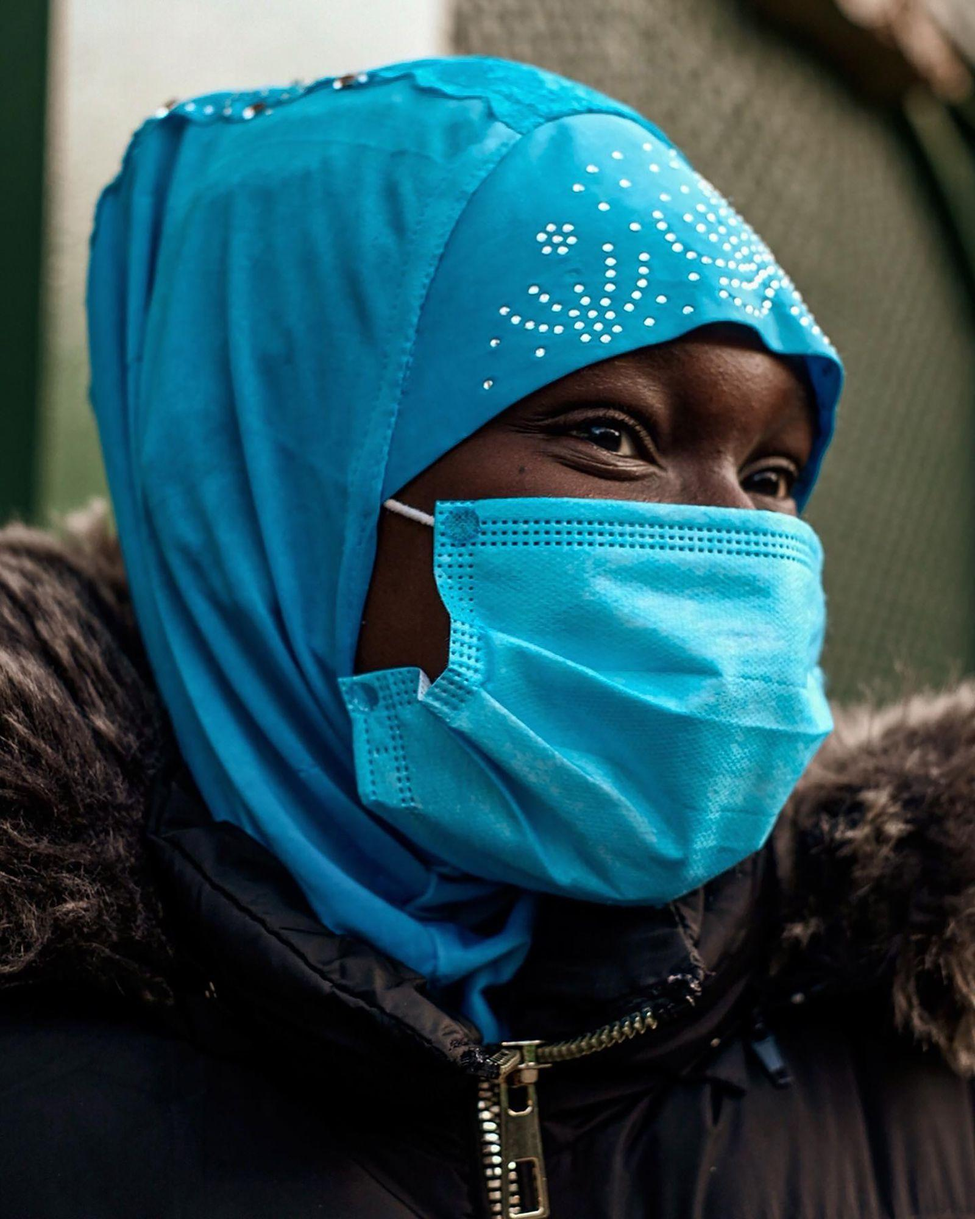cap: (88, 0, 890, 488)
mask: (356, 469, 856, 929)
